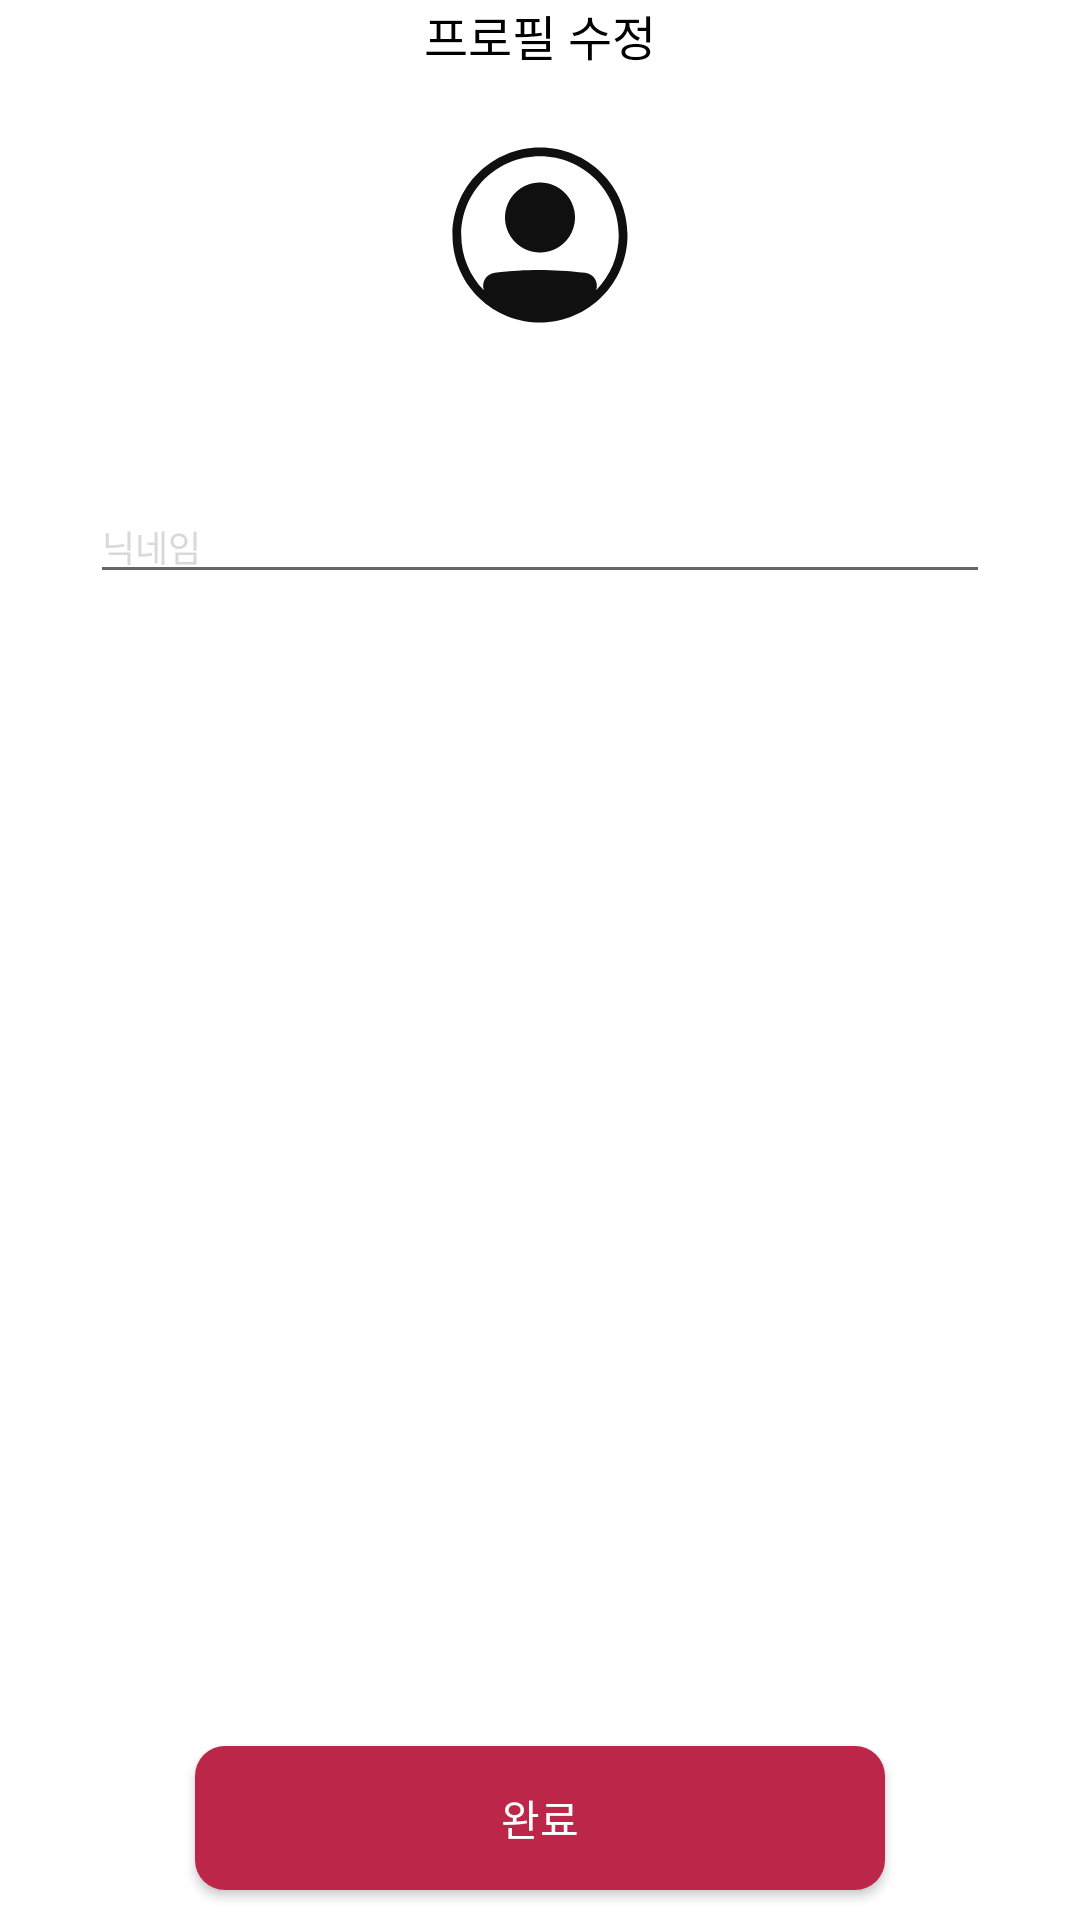

Locate icon controls on the screen. Image size 1080x1920, boxes as (x1, y1, x2, y2).
page profile: (452, 147, 628, 323)
